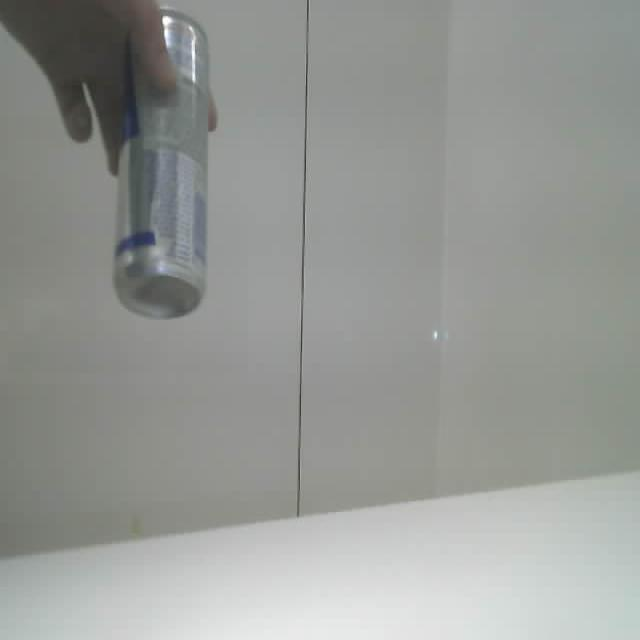redbull can: (114, 8, 208, 318)
